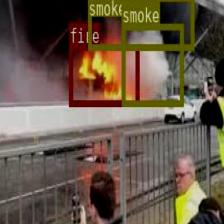fire: (69, 44, 138, 105)
smoke: (87, 0, 194, 49), (121, 23, 183, 105)
